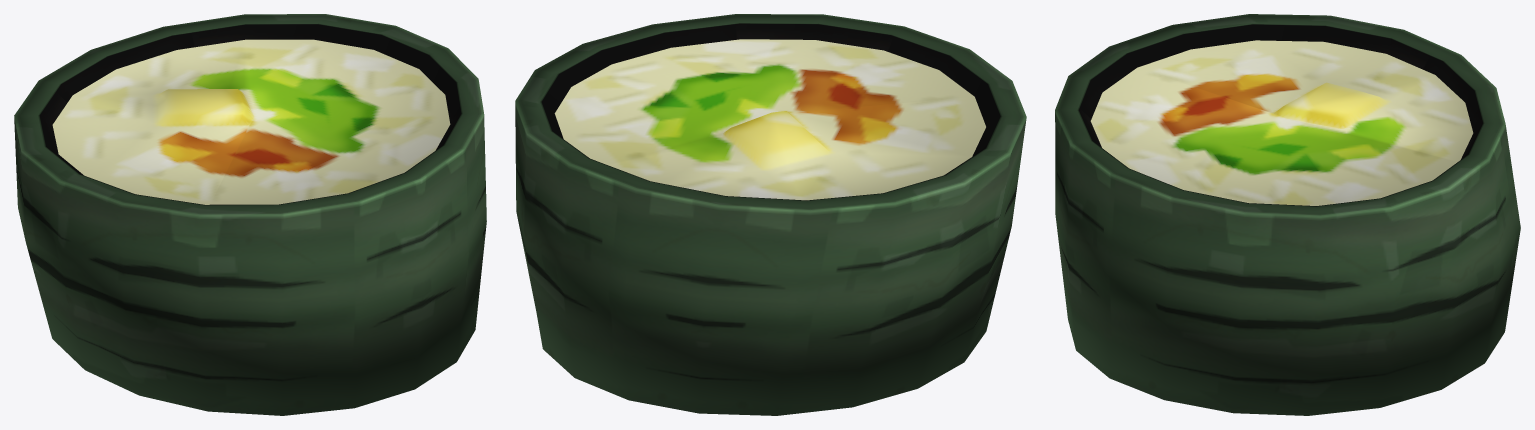
File: Food_Sushi.fbx
3 views of the same model, side by side, from view 1: azimuth 30°, elevation 25°; view 2: azimuth 150°, elevation 25°; view 3: azimuth 270°, elevation 25° (orthographic). The views are drawn at different scales.
Parts seen in each view (by area): view 1: Food_Sushi; view 2: Food_Sushi; view 3: Food_Sushi.
Part boxes in pixels (x1,y1,x2,y2): Food_Sushi: (14,14,486,415); Food_Sushi: (515,14,1026,415); Food_Sushi: (1055,14,1520,415).
Bounding box in the file's own units: 0.2652 × 0.1278 × 0.2544.
